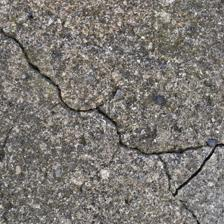Crack: (0, 118, 151, 193), (86, 110, 178, 224), (30, 56, 76, 105)
